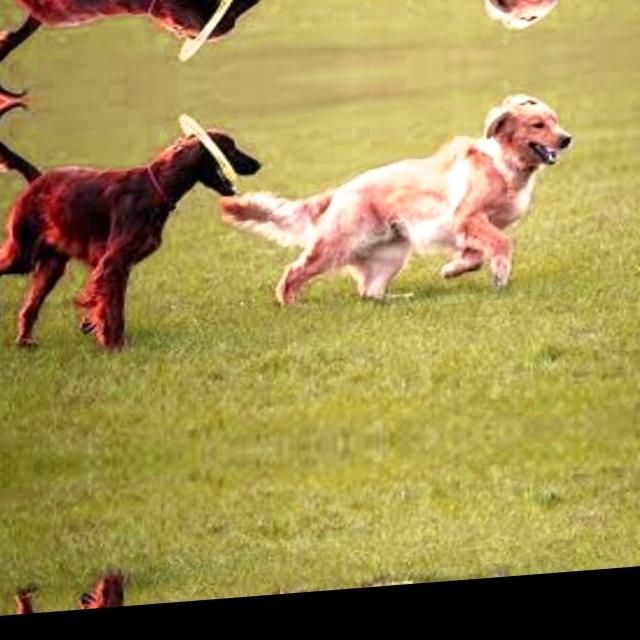dog: (271, 77, 572, 311), (272, 0, 572, 59), (270, 563, 571, 595)
